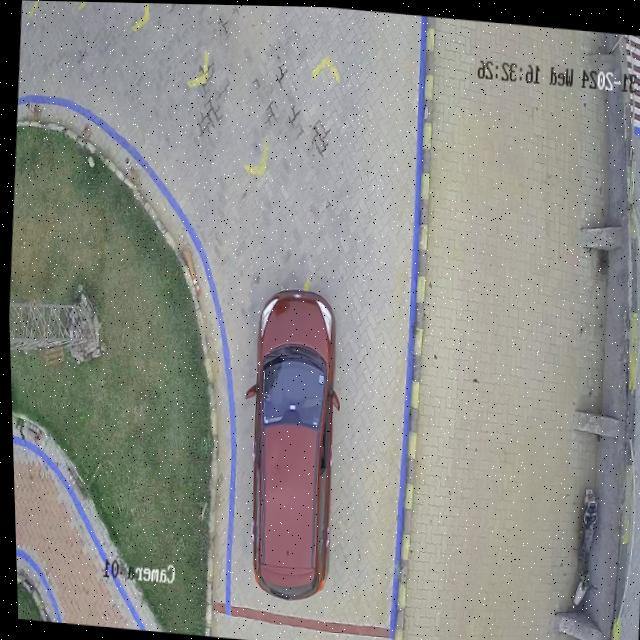car: (244, 288, 336, 597)
